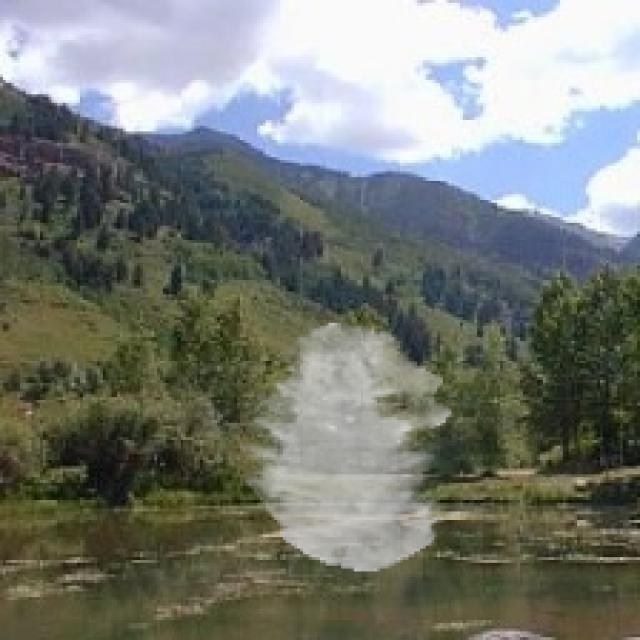smoke: (243, 323, 451, 571)
